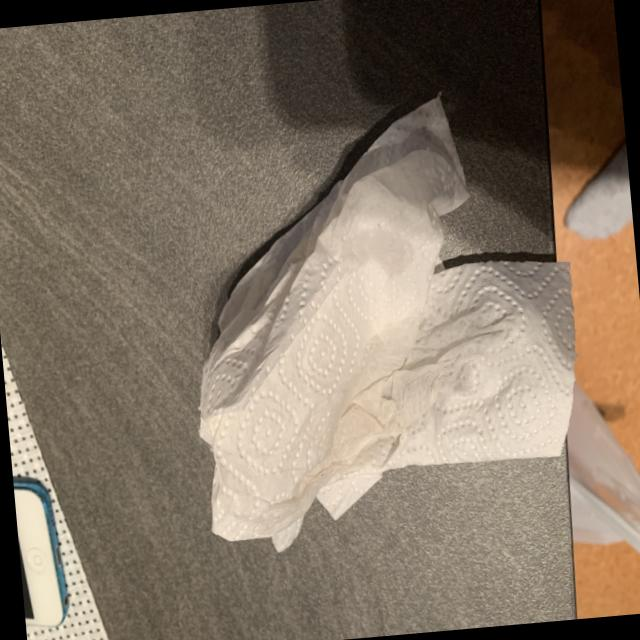organic waste: (164, 83, 598, 562)
